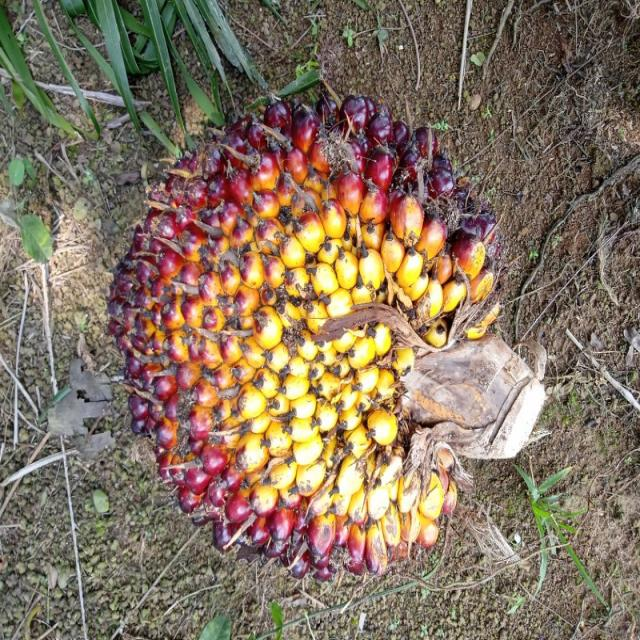fraksi 1: (90, 31, 621, 626)
